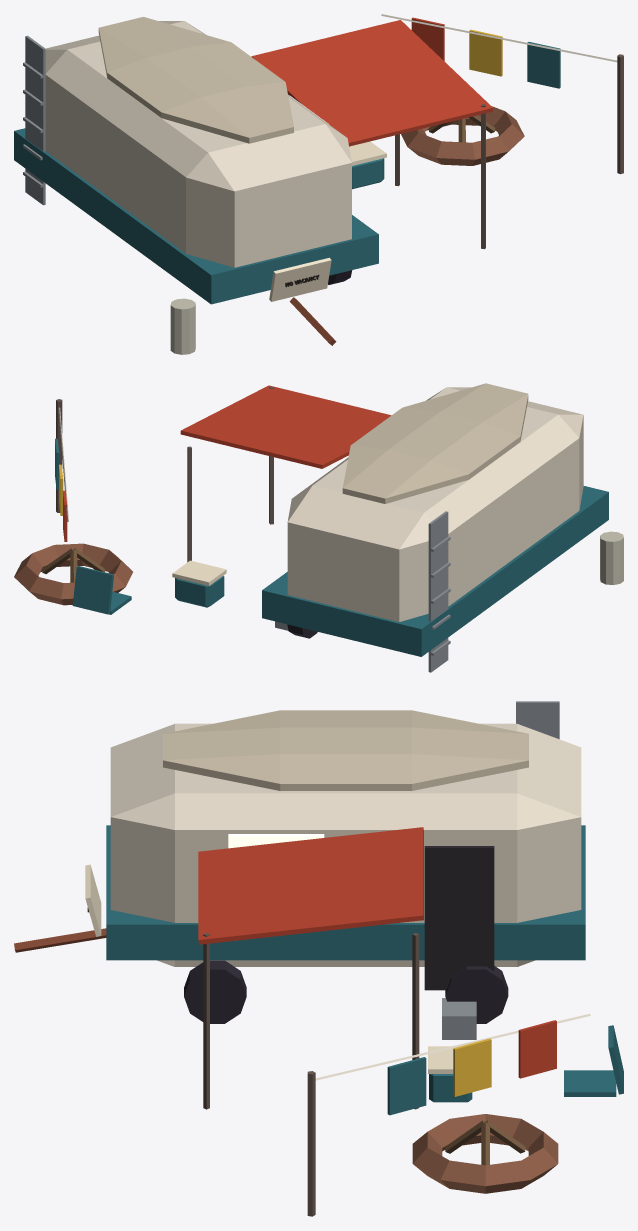
The model's file is camp.glb.
3 views of the same model, one above another, from view 1: azimuth 30°, elevation 25°; view 2: azimuth 150°, elevation 25°; view 3: azimuth 270°, elevation 25° (orthographic). The views are drawn at different scales.
Parts seen in each view (by area): view 1: camp; view 2: camp; view 3: camp.
Part boxes in pixels (x1,y1,x2,y2): camp: [14, 14, 623, 354]; camp: [14, 383, 623, 672]; camp: [14, 701, 623, 1216].
Bounding box in the file's own units: 8.42 × 2.98 × 7.
